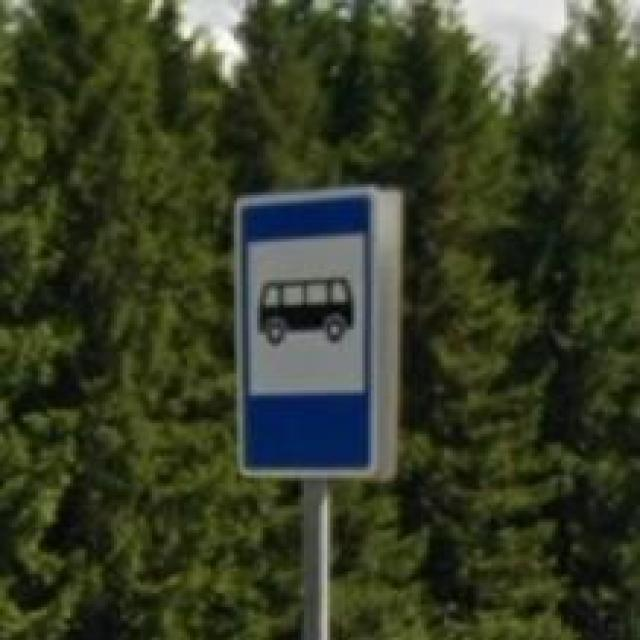traffic_sign: (234, 184, 380, 481)
